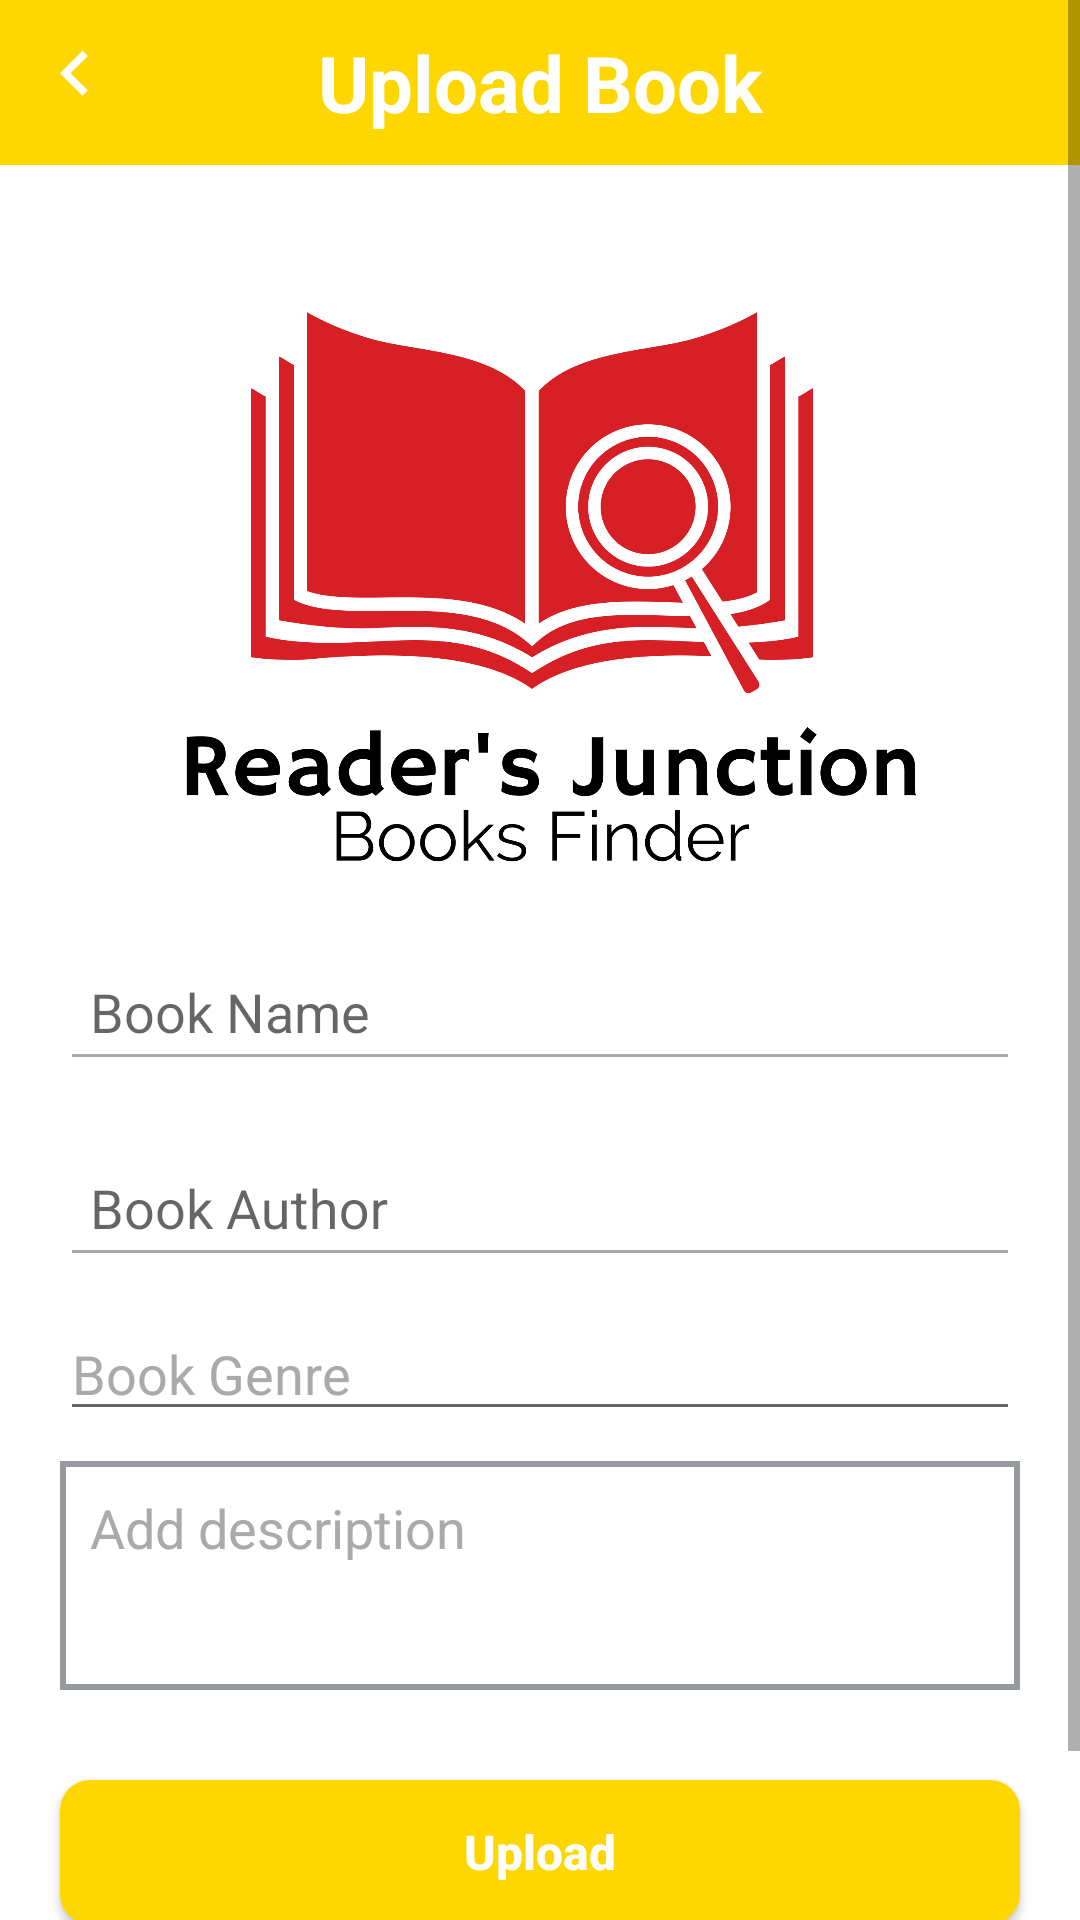

Where icons sit on this 1080px x 1920px app screen, as BBox(x1, y1, x2, y2):
keyboard arrow left: BBox(60, 51, 88, 96)
